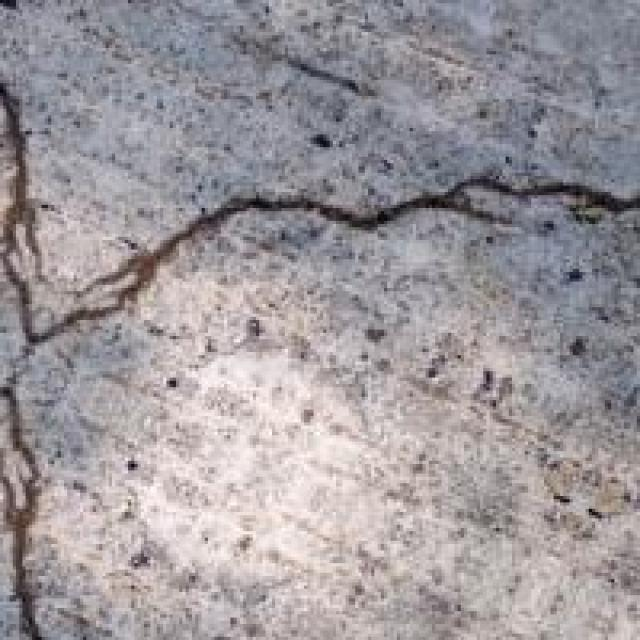crack: (0, 73, 637, 618)
